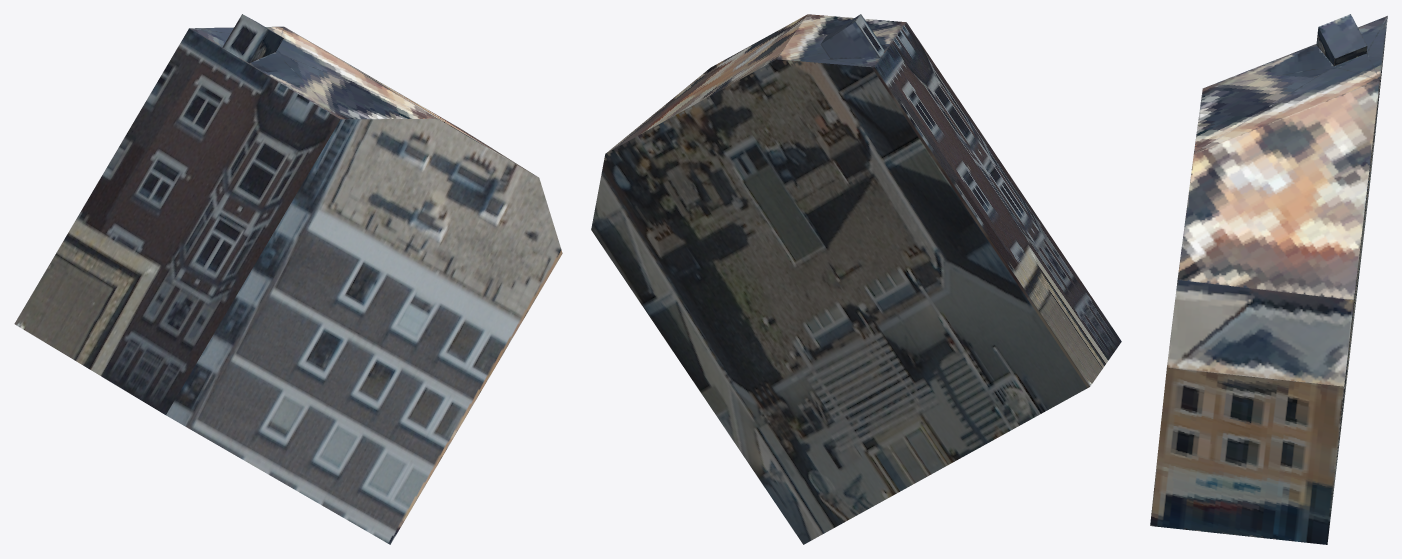
3 renders of one model, left to right at view 1: azimuth 30°, elevation 25°; view 2: azimuth 150°, elevation 25°; view 3: azimuth 270°, elevation 25°, orthographic. The views are drawn at different scales.
Visible parts, largest first — view 1: BAG_0599100000671750 (×4); view 2: BAG_0599100000671750 (×5); view 3: BAG_0599100000671750 (×4).
Boxes of the visible parts, x1=… form: BAG_0599100000671750 (×4): x1=14, y1=14, x2=562, y2=544; BAG_0599100000671750 (×5): x1=591, y1=14, x2=1121, y2=544; BAG_0599100000671750 (×4): x1=1150, y1=14, x2=1387, y2=544.
Size of the model in its own units: 19.94 by 20.34 by 8.73.
Materials: 5 (5 with a texture image).
